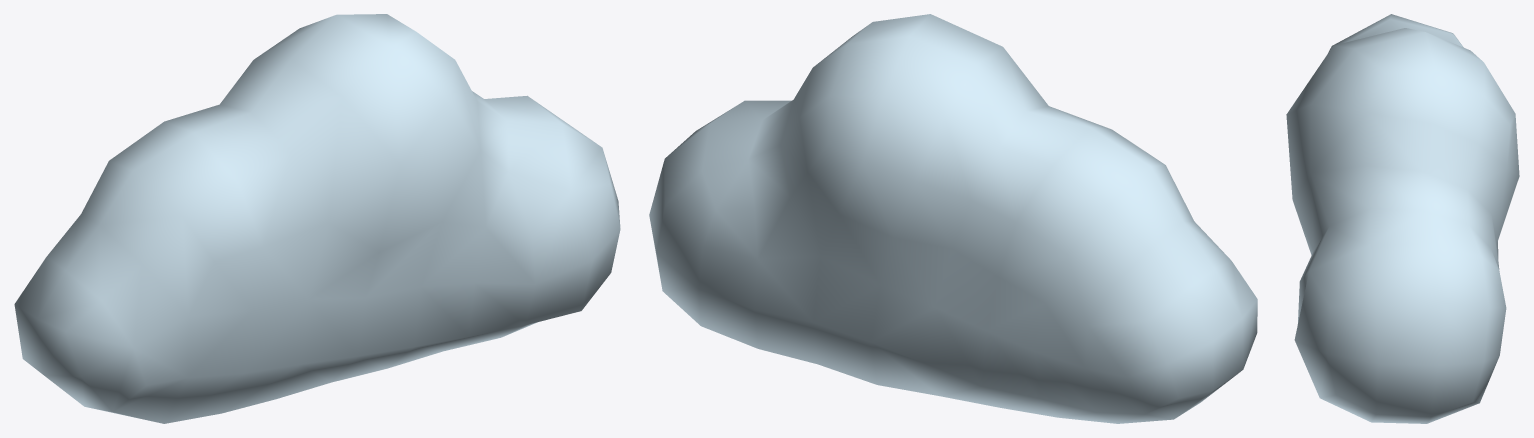
The model's file is Nube.fbx.
3 views of the same model, side by side, from view 1: azimuth 30°, elevation 25°; view 2: azimuth 150°, elevation 25°; view 3: azimuth 270°, elevation 25° (orthographic). The views are drawn at different scales.
Visible parts, largest first — view 1: Nube; view 2: Nube; view 3: Nube.
Part boxes in pixels (box(x1,y1,x2,y2)): Nube: box(14, 14, 620, 423); Nube: box(649, 14, 1257, 423); Nube: box(1286, 14, 1519, 423).
Bounding box in the file's own units: 5.81 × 3.25 × 2.2.
